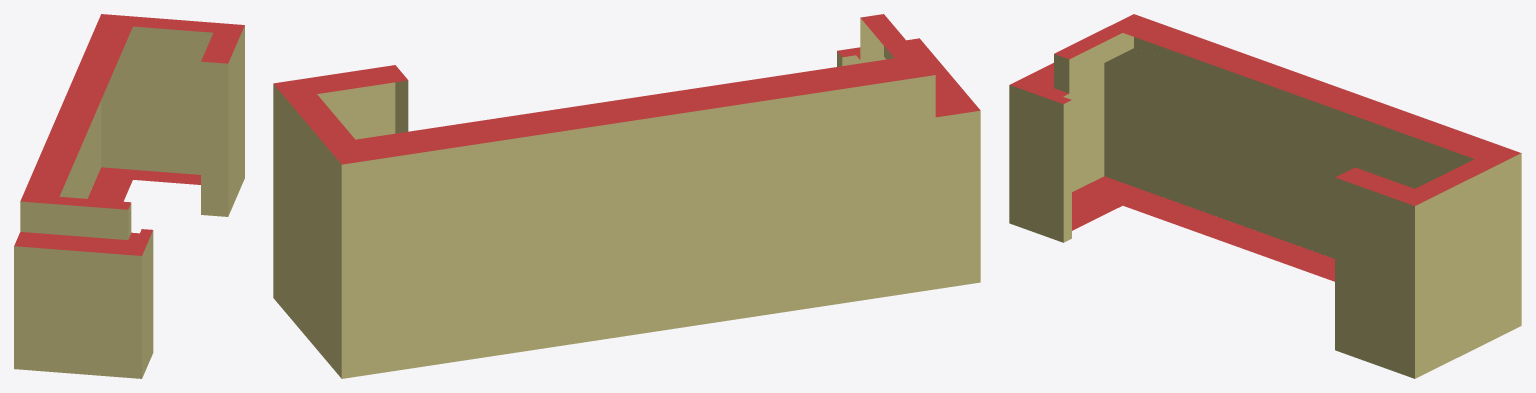
The picture shows the model from 3 angles, left to right: view 1: azimuth 30°, elevation 25°; view 2: azimuth 150°, elevation 25°; view 3: azimuth 270°, elevation 25°; orthographic projection. The views are drawn at different scales.
Parts seen in each view (by area): view 1: group_7, group_4, group_6, group_3, group_8; view 2: group_7, group_6, group_4, group_3; view 3: group_7, group_4, group_6, group_8, group_5, group_3.
Boxes of the visible parts, box(x1,y1,x2,y2) form: group_7: box(20, 25, 244, 239); group_4: box(14, 230, 153, 378); group_6: box(20, 14, 244, 209); group_3: box(14, 229, 152, 255); group_8: box(87, 167, 200, 201); group_7: box(273, 18, 935, 378); group_6: box(273, 14, 934, 164); group_4: box(837, 51, 980, 294); group_3: box(837, 38, 980, 117); group_7: box(1054, 33, 1521, 378); group_4: box(1009, 48, 1158, 242); group_6: box(1054, 14, 1520, 205); group_8: box(1132, 195, 1334, 281); group_5: box(1072, 176, 1157, 230); group_3: box(1010, 63, 1071, 103).
Bounding box in the file's own units: 33.75 × 36.02 × 13.42.
